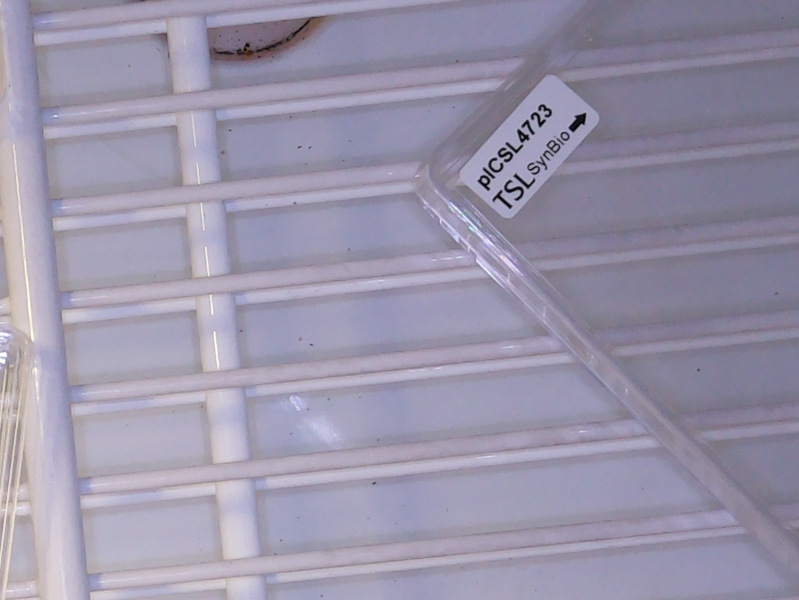plate: (412, 1, 799, 574), (1, 320, 33, 590)
